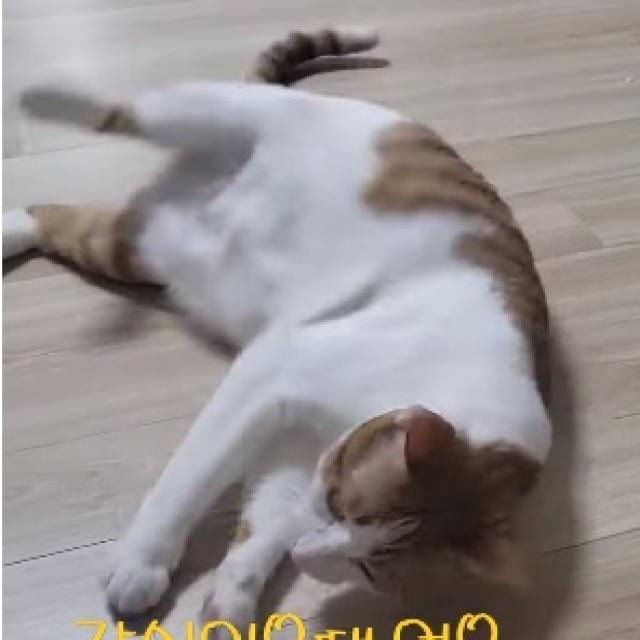cat: (0, 14, 617, 640)
